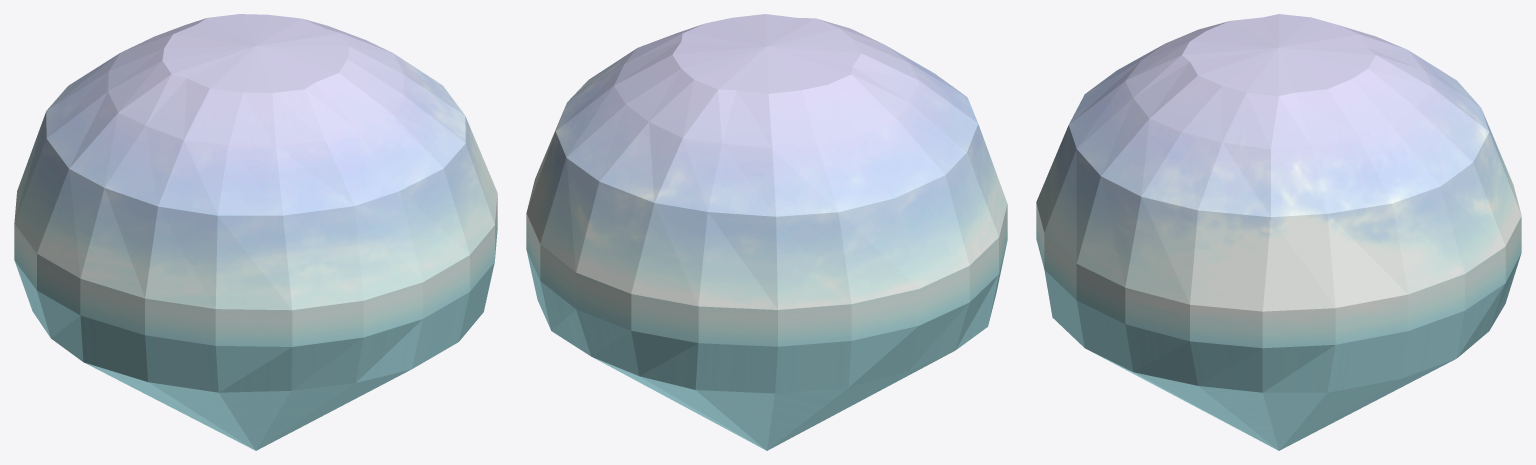
File: C3_ATEST_SKY.obj
3 views of the same model, side by side, from view 1: azimuth 30°, elevation 25°; view 2: azimuth 150°, elevation 25°; view 3: azimuth 270°, elevation 25° (orthographic).
Parts seen in each view (by area): view 1: Node 0; view 2: Node 0; view 3: Node 0.
Part boxes in pixels (bbox=[...]): Node 0: bbox=[14, 14, 497, 450]; Node 0: bbox=[526, 14, 1007, 450]; Node 0: bbox=[1036, 14, 1521, 450].
Bounding box in the file's own units: 0.6 × 0.55 × 0.6.
Materials: 1 (1 with a texture image).
